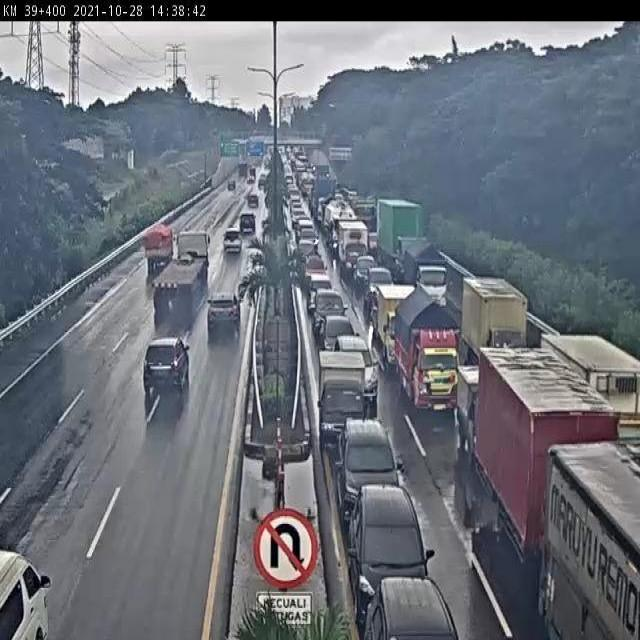big truck: (477, 344, 618, 595), (378, 197, 424, 280)
car: (350, 482, 435, 610), (334, 417, 405, 531), (360, 576, 459, 640), (152, 228, 209, 315), (143, 335, 190, 397), (337, 335, 380, 401), (311, 288, 348, 339), (321, 314, 359, 362), (207, 292, 240, 336), (366, 267, 395, 312), (306, 273, 335, 315), (300, 250, 327, 294), (355, 255, 375, 289), (220, 228, 244, 255), (238, 209, 258, 236)
small truck: (392, 285, 461, 415), (460, 273, 526, 379), (457, 368, 510, 467), (316, 351, 366, 449), (401, 235, 448, 309), (380, 284, 419, 367), (339, 218, 370, 274), (143, 221, 174, 268)
